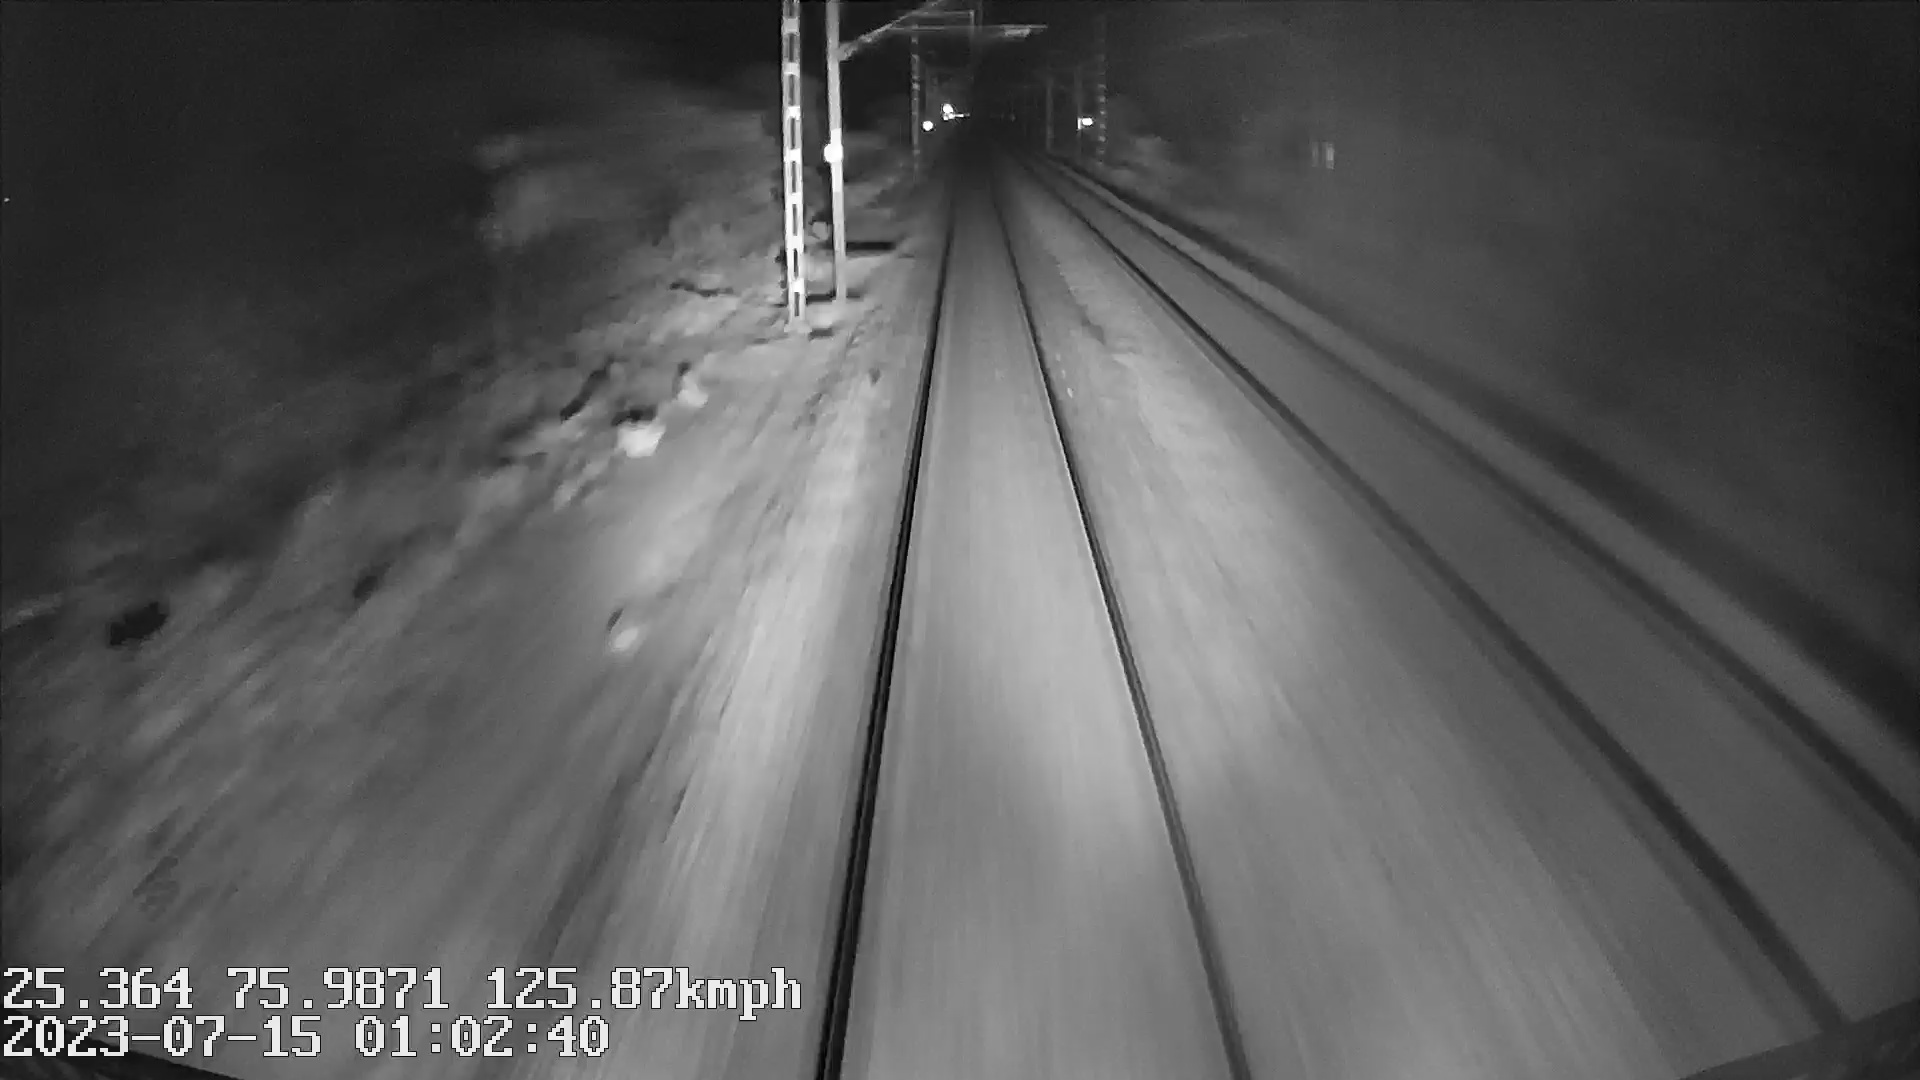track1: (833, 203, 1232, 1051)
track2: (1100, 223, 1907, 1000)
